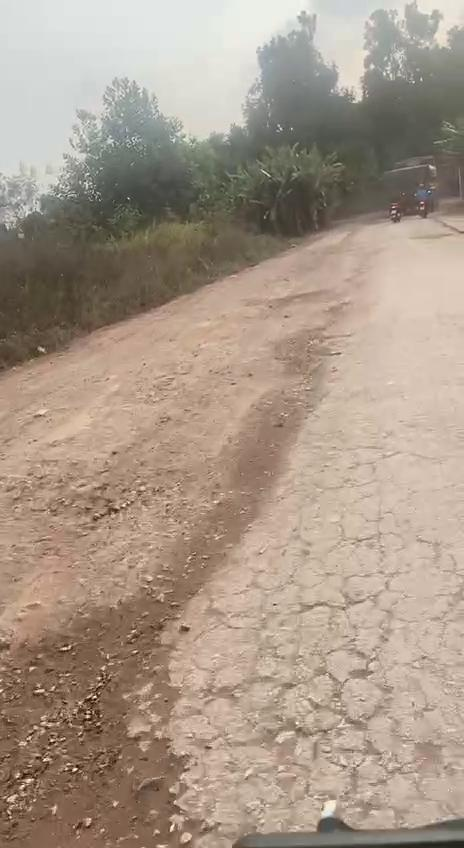pothole: (0, 638, 197, 848)
